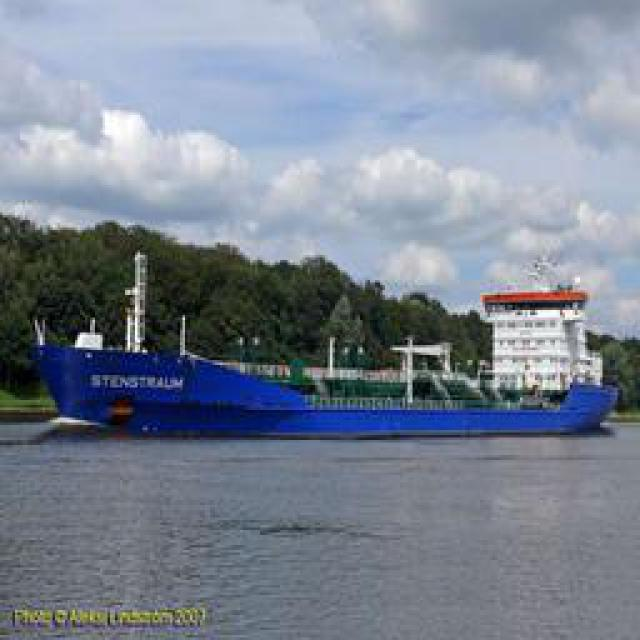Ship: (35, 329, 618, 442)
